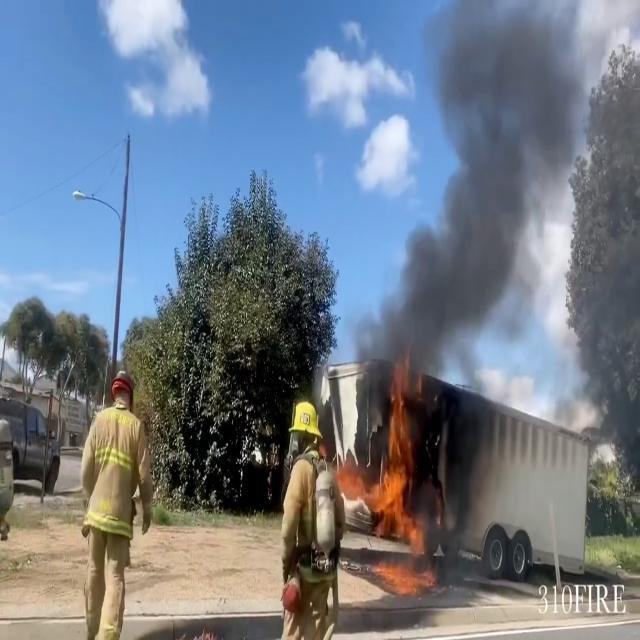Fire: (354, 370, 430, 570)
Smoke: (369, 0, 640, 457), (367, 1, 592, 383)
